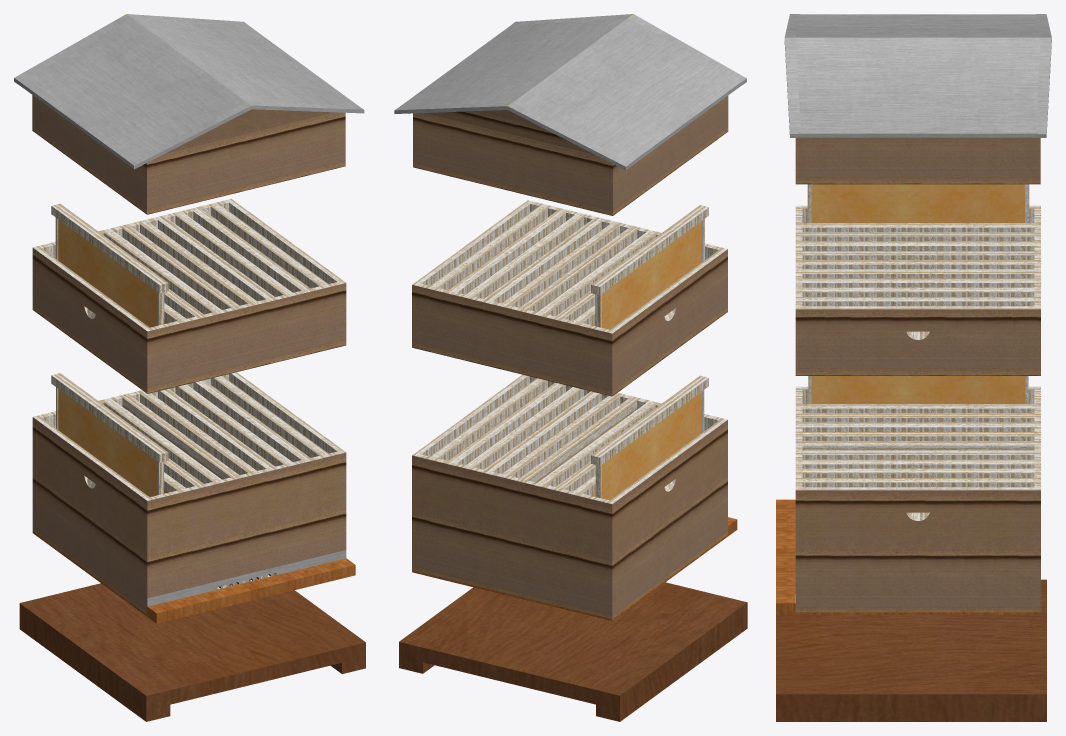
Rendered from ruche_vue_eclatee.glb.
3 views of the same model, side by side, from view 1: azimuth 30°, elevation 25°; view 2: azimuth 150°, elevation 25°; view 3: azimuth 270°, elevation 25° (orthographic). The views are drawn at different scales.
Visible parts, largest first — view 1: Material2 (×22), Material3 (×3); view 2: Material2 (×19), Material3 (×3); view 3: Material2 (×18), Material3 (×3).
Boxes of the visible parts, <box> form: Material2 (×22): <box>19,109,365,721</box>; Material3 (×3): <box>14,14,364,623</box>; Material2 (×19): <box>399,200,747,721</box>; Material3 (×3): <box>394,14,746,620</box>; Material2 (×18): <box>776,184,1046,721</box>; Material3 (×3): <box>776,14,1051,614</box>.
Size of the model in its own units: 27.32 by 66.56 by 26.55.
Materials: 11 (6 with a texture image).
